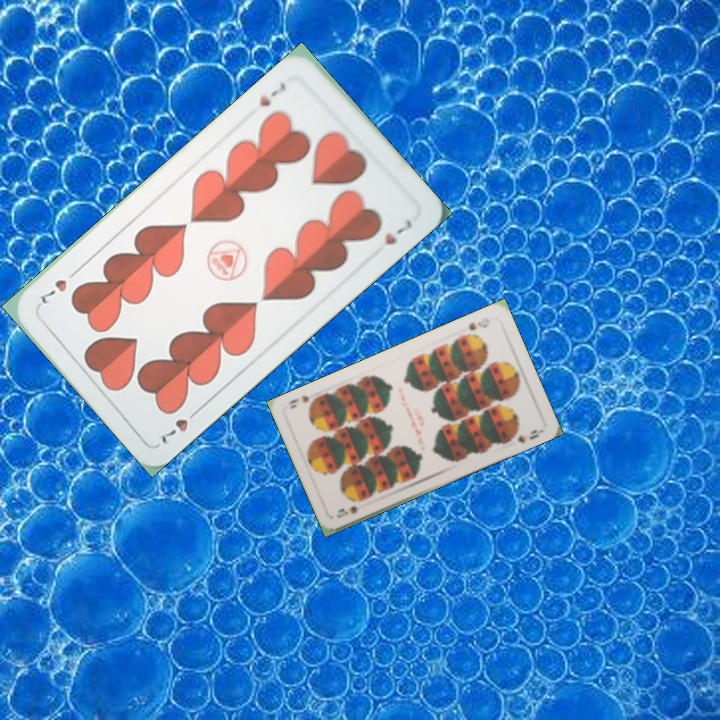H7: (157, 403, 204, 447), (255, 78, 289, 109)
S9: (332, 502, 362, 521), (464, 313, 492, 333)
